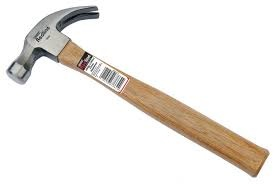hammer: (4, 3, 274, 179)
